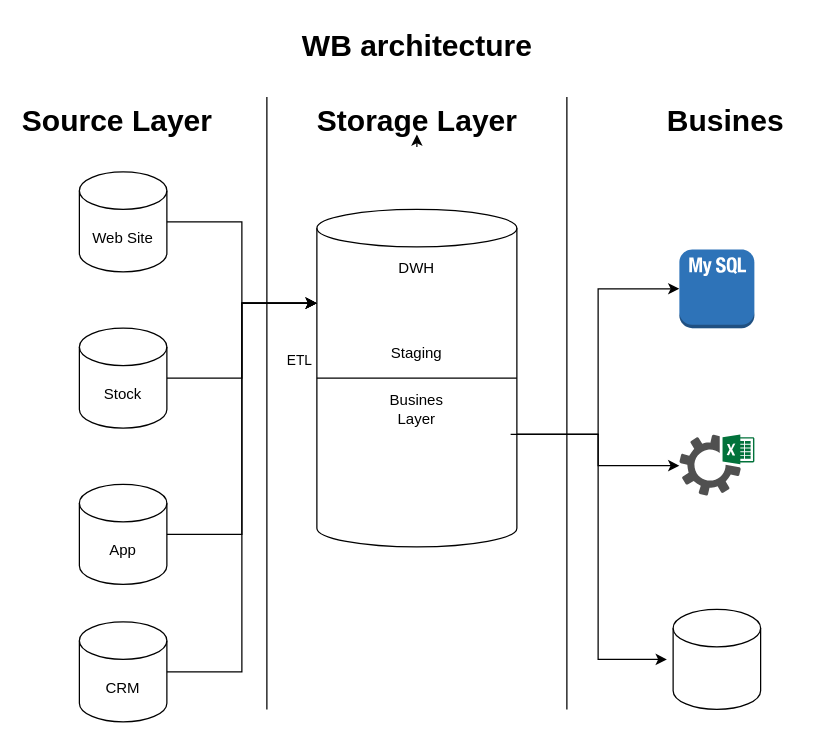
Some shapes in this 813 by 744 pixel diagram are drawn without their labels. The centre of each missing label's shape, as x and y in pixels:
"Busines Intelligence" goes at point (716, 658).
"Excel" goes at point (716, 464).
